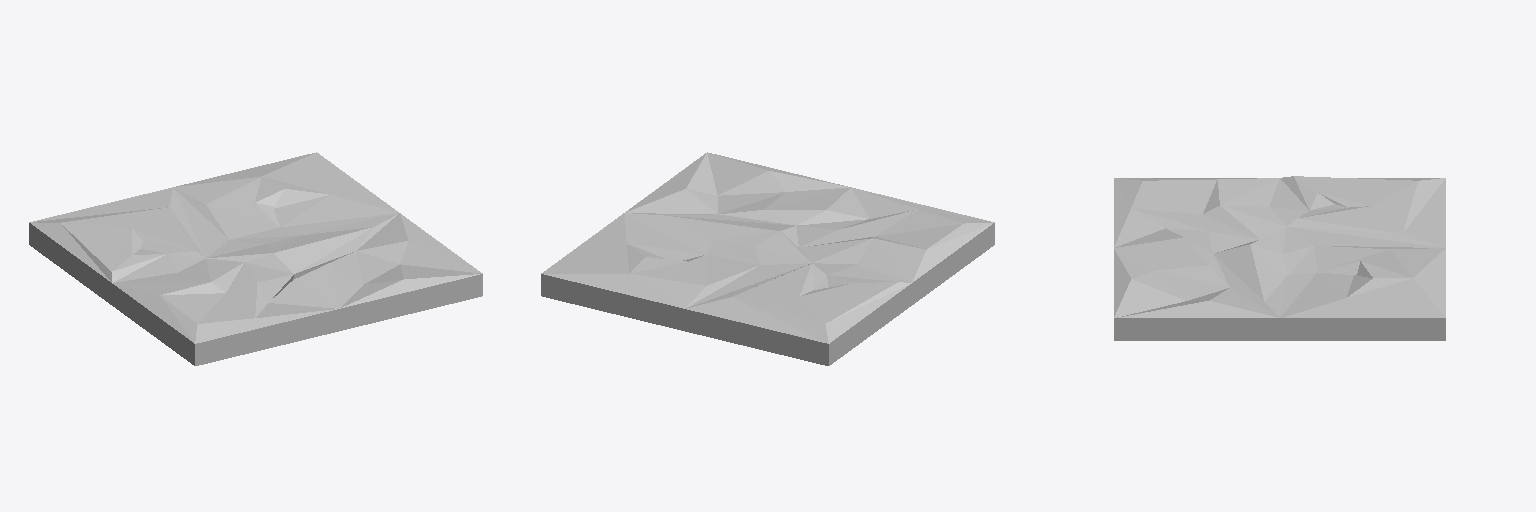
The model's file is piso 1.obj.
The picture shows the model from 3 angles: view 1: azimuth 30°, elevation 25°; view 2: azimuth 150°, elevation 25°; view 3: azimuth 270°, elevation 25°; orthographic projection.
Parts seen in each view (by area): view 1: piso_1 piso_1; view 2: piso_1 piso_1; view 3: piso_1 piso_1.
Boxes of the visible parts, <box> form: piso_1 piso_1: <box>29,152,482,365</box>; piso_1 piso_1: <box>541,152,994,365</box>; piso_1 piso_1: <box>1114,176,1445,340</box>.
Size of the model in its own units: 21.74 by 2.11 by 21.74.